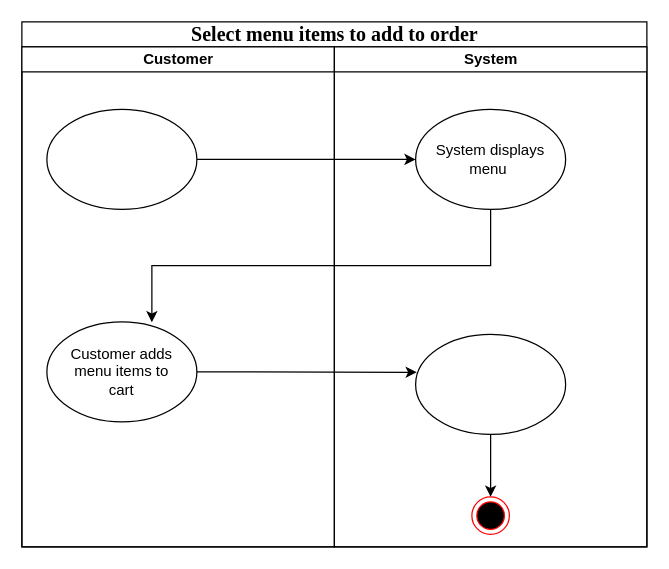
Image size: 669x569. Some labels were removed from this diagram. Each missing label, with the centre of its shape:
Customer navigates menu items: [121,158]
System updates cart: [490,383]
